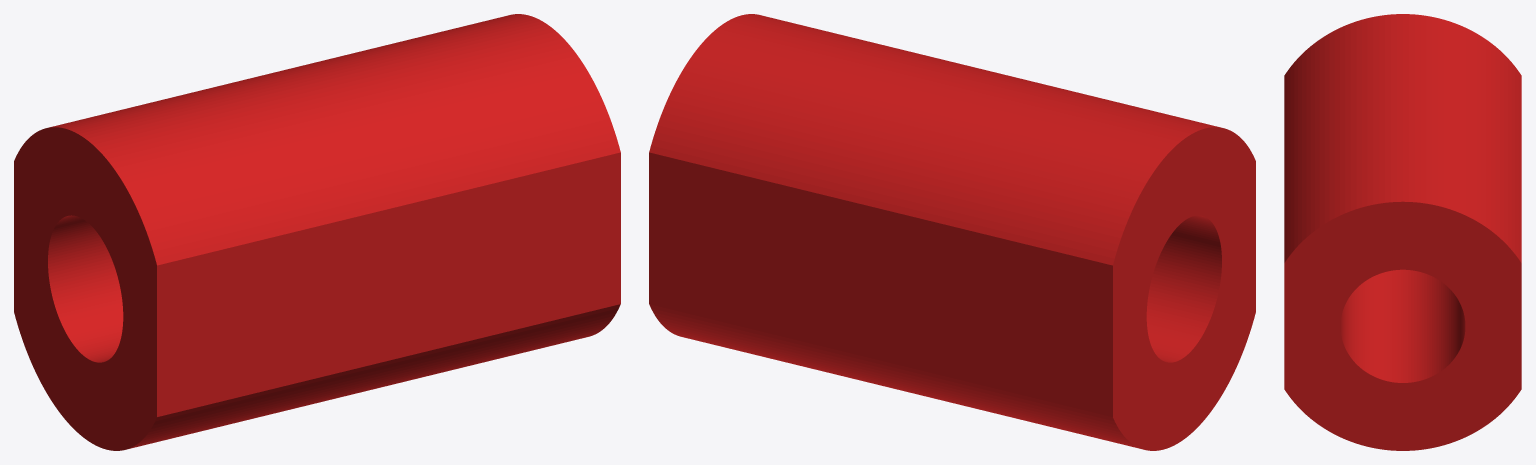
Rendered from 0_colored.obj.
3 views of the same model, side by side, from view 1: azimuth 30°, elevation 25°; view 2: azimuth 150°, elevation 25°; view 3: azimuth 270°, elevation 25° (orthographic). The views are drawn at different scales.
Bounding box in the file's own units: 0.08 × 0.0495 × 0.0427.
